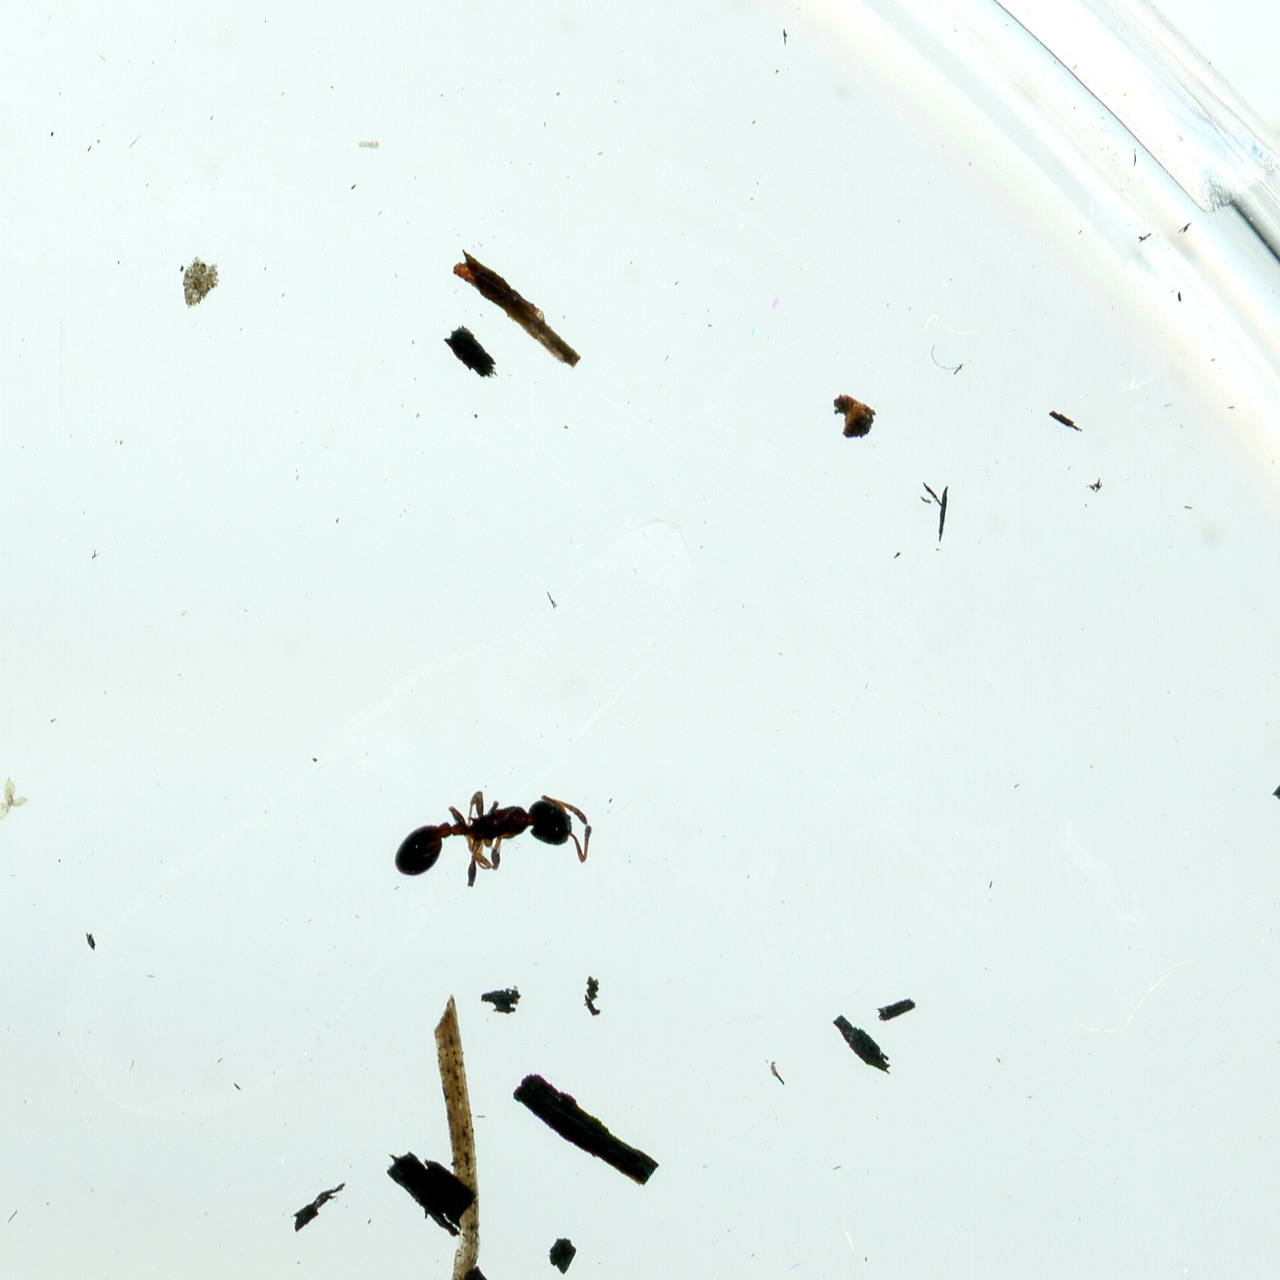arthropod: (392, 785, 593, 888), (545, 1261, 710, 1280)
